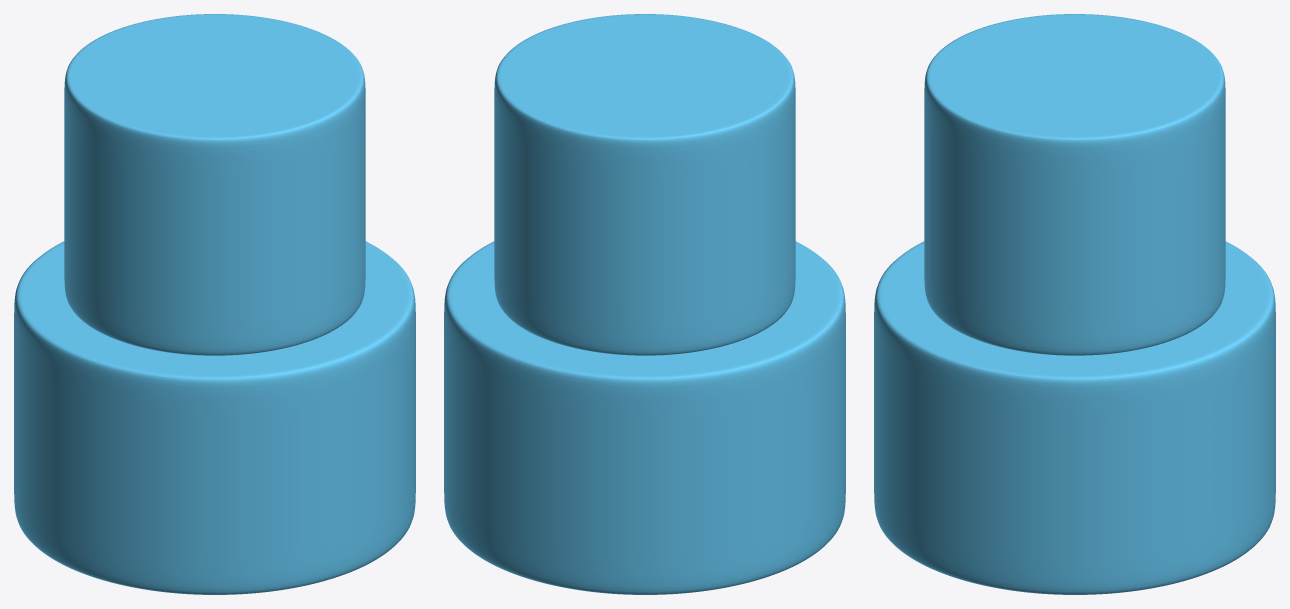
File: Cake_Layer_2_LightBlue.glb
The picture shows the model from 3 angles, left to right: view 1: azimuth 30°, elevation 25°; view 2: azimuth 150°, elevation 25°; view 3: azimuth 270°, elevation 25°; orthographic projection.
Visible parts, largest first — view 1: Circle.001, Circle.002; view 2: Circle.001, Circle.002; view 3: Circle.001, Circle.002.
Part boxes in pixels (<box>): Circle.001: <box>14,241,415,594</box>; Circle.002: <box>64,14,365,355</box>; Circle.001: <box>444,241,845,594</box>; Circle.002: <box>494,14,795,355</box>; Circle.001: <box>874,241,1275,594</box>; Circle.002: <box>924,14,1225,355</box>.
Bounding box in the file's own units: 0.2 × 0.24 × 0.2.
